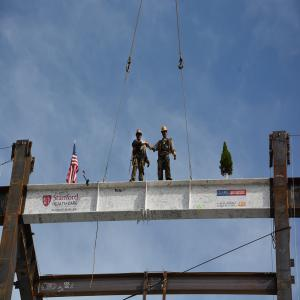red: (136, 130, 143, 140)
yellow: (162, 127, 168, 139)
